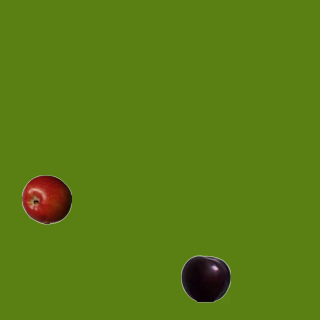Apple Braeburn: (21, 174, 71, 224)
Cherry Wax Black: (180, 253, 230, 303)
